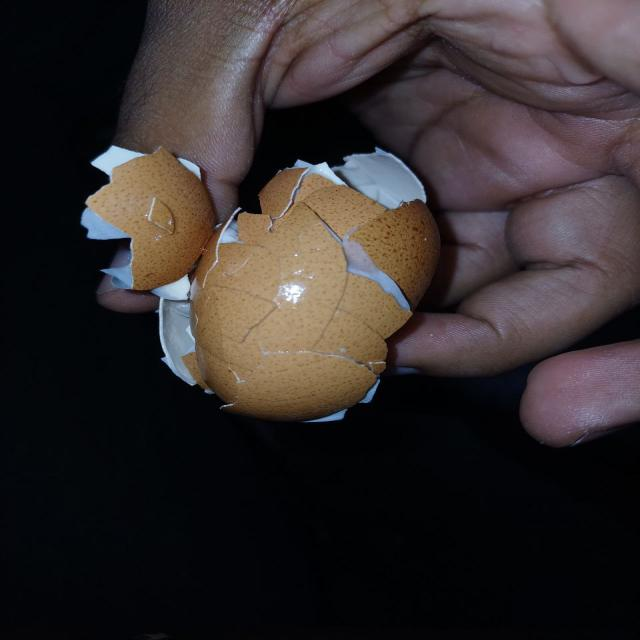organic: (81, 144, 442, 423)
